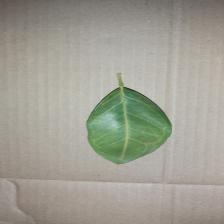greening: (81, 71, 176, 167)
